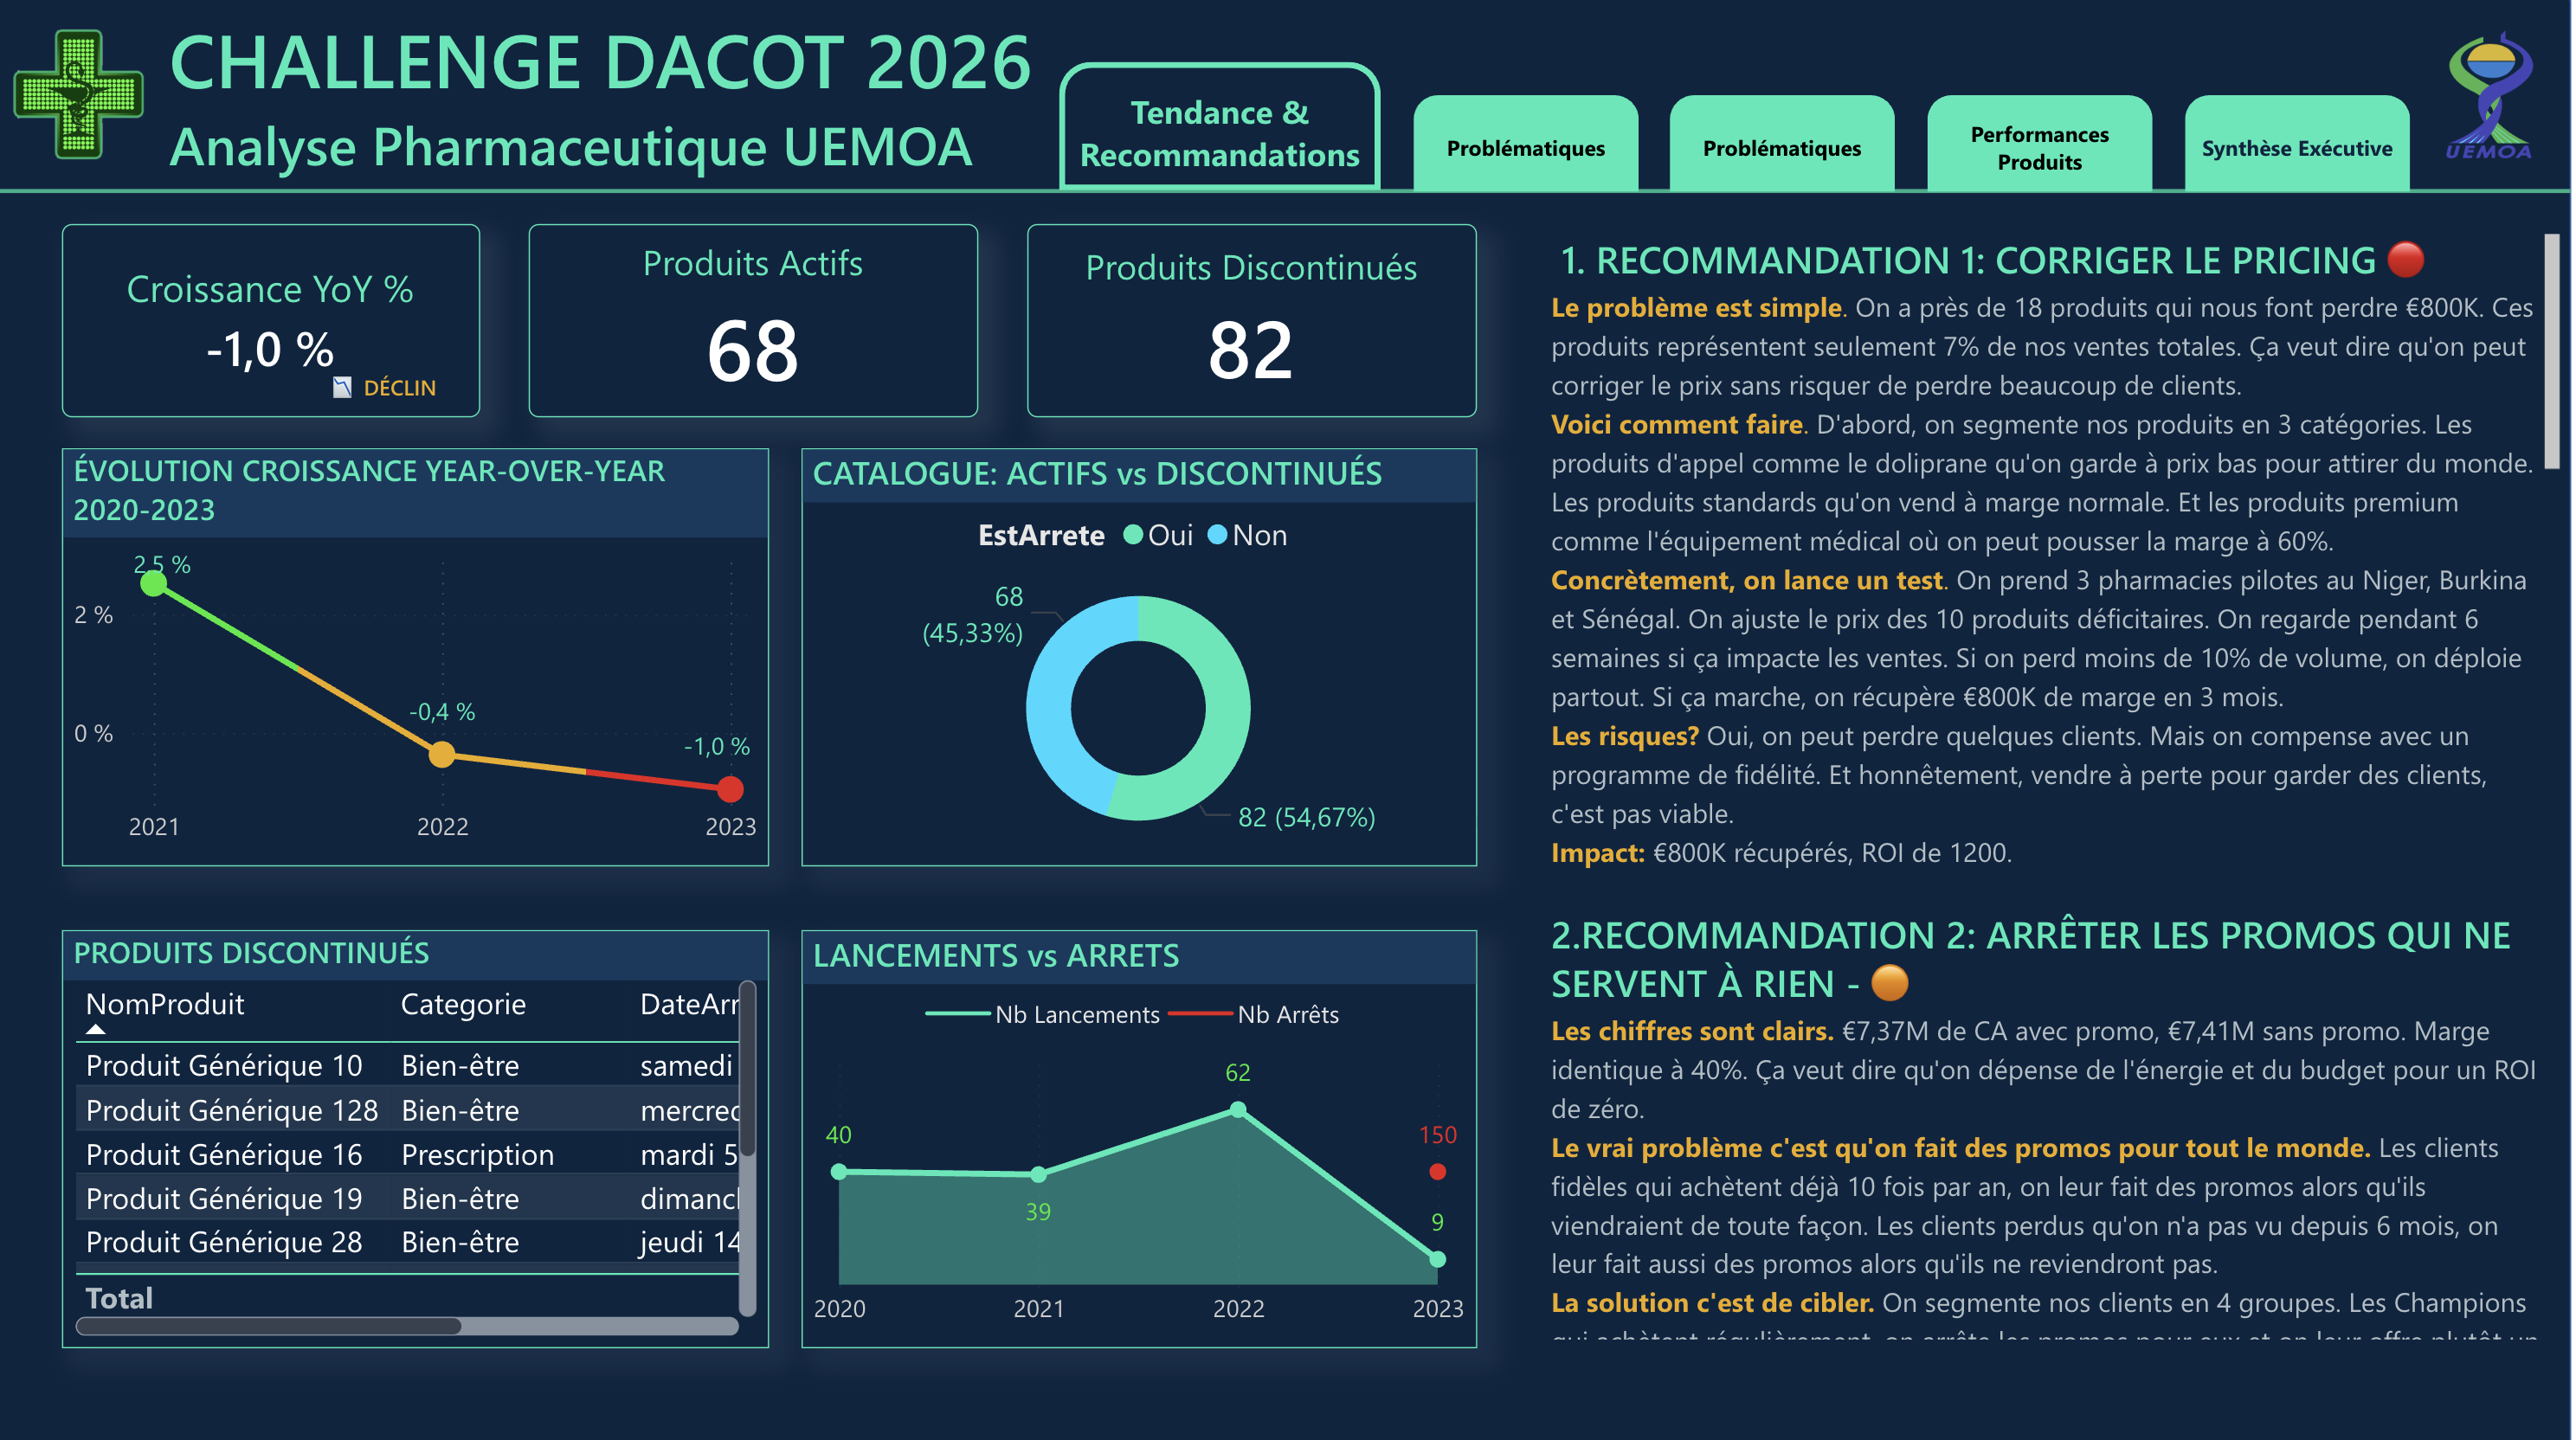

Layout of this report page (visuals, bound fields, positions):
{"tool":"powerbi","page":{"name":"Tendances & Recommandations","canvas":[1280,720],"ordinal":4},"visuals":[{"type":"textbox","box":[80,0,448,96],"z":0},{"type":"shape","box":[0,80,1280,32],"z":1000},{"type":"image","box":[0,0,80,96],"z":2000},{"type":"image","box":[1200,16,80,64],"z":3000},{"type":"actionButton","box":[1088,48,112,48],"z":4000},{"type":"actionButton","box":[960,48,112,48],"z":5000},{"type":"actionButton","box":[528,32,160,64],"z":6000},{"type":"actionButton","box":[832,48,112,48],"z":7000},{"type":"cardVisual","fields":{"Data":["⚡ Mesures.Dernière Croissance"]},"box":[32,112,208,96],"z":8000},{"type":"cardVisual","fields":{"Data":["⚡ Mesures.Nb Produits Actifs"]},"box":[264,112,224,96],"z":9000},{"type":"cardVisual","fields":{"Data":["⚡ Mesures.Nb Produits Discontinués"]},"box":[512,112,224,96],"z":10000},{"type":"actionButton","box":[704,48,112,48],"z":12000},{"type":"cardVisual","fields":{"Data":["⚡ Mesures.Tendance"]},"box":[144,176,96,32],"z":13000},{"type":"lineChart","title":"LANCEMENTS vs ARRETS","fields":{"Category":["DimDate.Annee"],"Y":["⚡ Mesures.Nb Lancements"],"Y2":["⚡ Mesures.Nb Arrêts"]},"box":[400,464,336,208],"z":14000},{"type":"donutChart","title":"CATALOGUE: ACTIFS vs DISCONTINUÉS","fields":{"Category":["DimProduit.EstArrete"],"Y":["⚡ Mesures.Nb Produit"]},"box":[400,224,336,208],"z":15000},{"type":"lineChart","title":"ÉVOLUTION CROISSANCE YEAR-OVER-YEAR 2020-2023","fields":{"Category":["DimDate.Annee"],"Y":["⚡ Mesures.Croissance YoY %"]},"box":[32,224,352,208],"z":16000},{"type":"tableEx","title":" PRODUITS DISCONTINUÉS","fields":{"Values":["DimProduit.NomProduit","DimProduit.Categorie","DimProduit.DateArret","⚡ Mesures.CA Total"]},"box":[32,464,352,208],"z":17000},{"type":"textbox","box":[768,112,512,560],"z":18000}]}

Visuals, with their boxes in screenshot pixels (x1, y1, x2, y2), scaled from the page's 1280x720 canvas onto the 2576x1440 screenshot:
textbox: Rect(161, 0, 1063, 192)
shape: Rect(0, 160, 2575, 224)
image: Rect(0, 0, 161, 192)
image: Rect(2415, 32, 2575, 160)
actionButton: Rect(2190, 96, 2415, 192)
actionButton: Rect(1932, 96, 2157, 192)
actionButton: Rect(1063, 64, 1385, 192)
actionButton: Rect(1674, 96, 1900, 192)
cardVisual - ⚡ Mesures.Dernière Croissance: Rect(64, 224, 483, 416)
cardVisual - ⚡ Mesures.Nb Produits Actifs: Rect(531, 224, 982, 416)
cardVisual - ⚡ Mesures.Nb Produits Discontinués: Rect(1030, 224, 1481, 416)
actionButton: Rect(1417, 96, 1642, 192)
cardVisual - ⚡ Mesures.Tendance: Rect(290, 352, 483, 416)
"LANCEMENTS vs ARRETS" lineChart: Rect(805, 928, 1481, 1344)
"CATALOGUE: ACTIFS vs DISCONTINUÉS" donutChart: Rect(805, 448, 1481, 864)
"ÉVOLUTION CROISSANCE YEAR-OVER-YEAR 2020-2023" lineChart: Rect(64, 448, 773, 864)
" PRODUITS DISCONTINUÉS" tableEx: Rect(64, 928, 773, 1344)
textbox: Rect(1546, 224, 2575, 1344)
